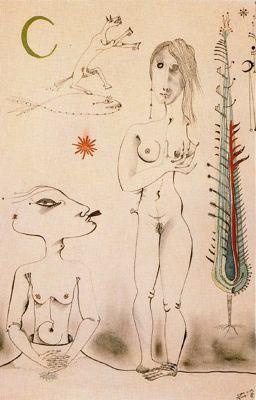person: (119, 37, 193, 379), (11, 176, 98, 379)
